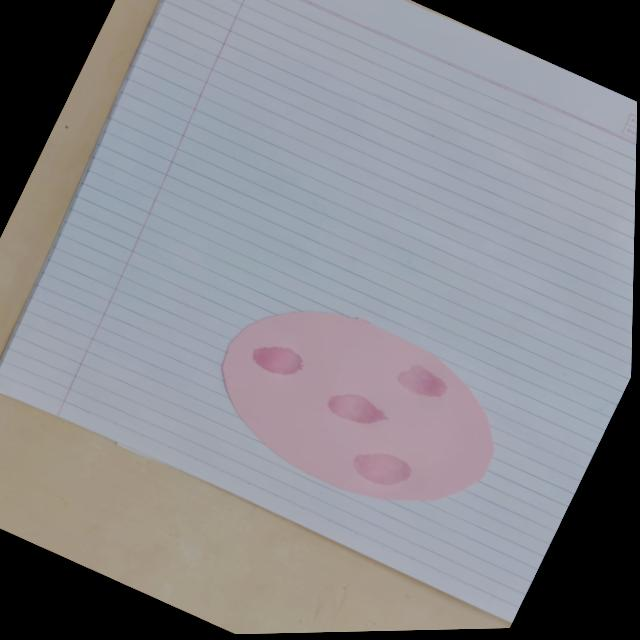BlueColor: (327, 394, 387, 424), (353, 454, 411, 485), (398, 365, 447, 397), (252, 346, 303, 375)
